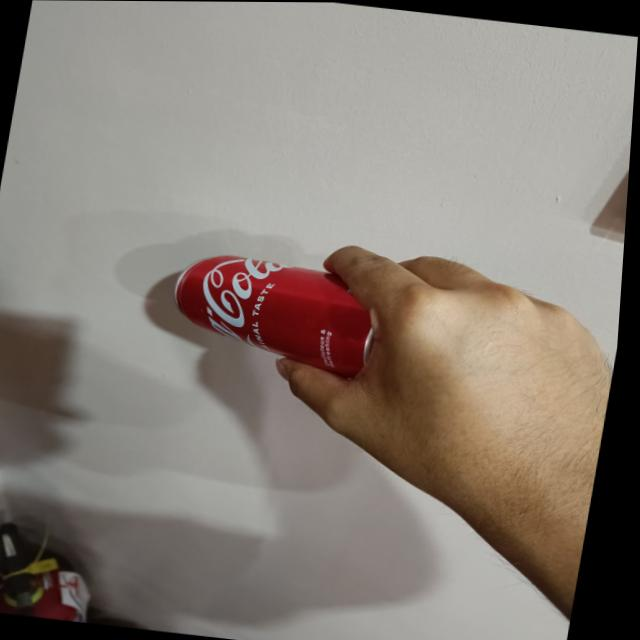coke: (164, 249, 393, 376)
